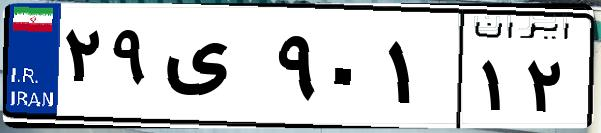0: (330, 28, 385, 110)
1: (385, 28, 445, 110), (475, 38, 525, 113)
2: (57, 26, 110, 100), (525, 38, 570, 115)
9: (270, 28, 330, 110), (110, 28, 158, 98)
ی: (158, 20, 270, 120)
